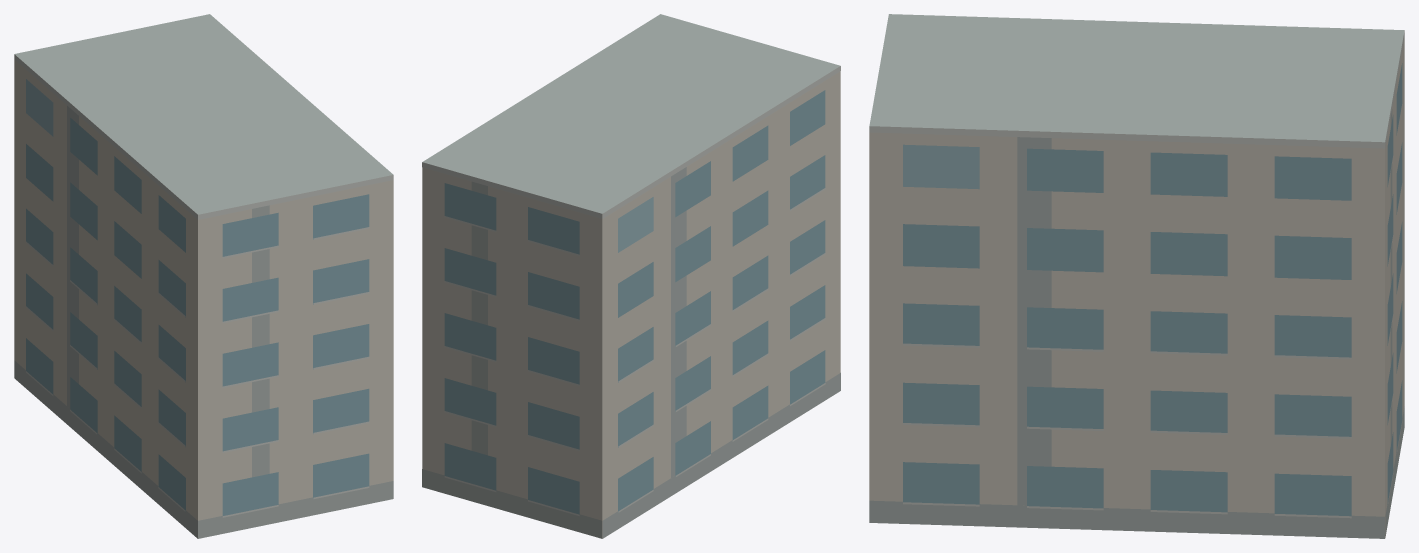
The model's file is survey-upis-32812345.glb.
3 renders of one model, left to right at view 1: azimuth 30°, elevation 25°; view 2: azimuth 150°, elevation 25°; view 3: azimuth 270°, elevation 25°, orthographic. The views are drawn at different scales.
Visible parts, largest first — view 1: survey-upis-32812345.tmp; view 2: survey-upis-32812345.tmp; view 3: survey-upis-32812345.tmp.
Part boxes in pixels (x1,y1,x2,y2): survey-upis-32812345.tmp: (14,14,393,538); survey-upis-32812345.tmp: (422,14,840,538); survey-upis-32812345.tmp: (869,14,1404,538).
Bounding box in the file's own units: 10.62 × 15.3 × 18.72.
